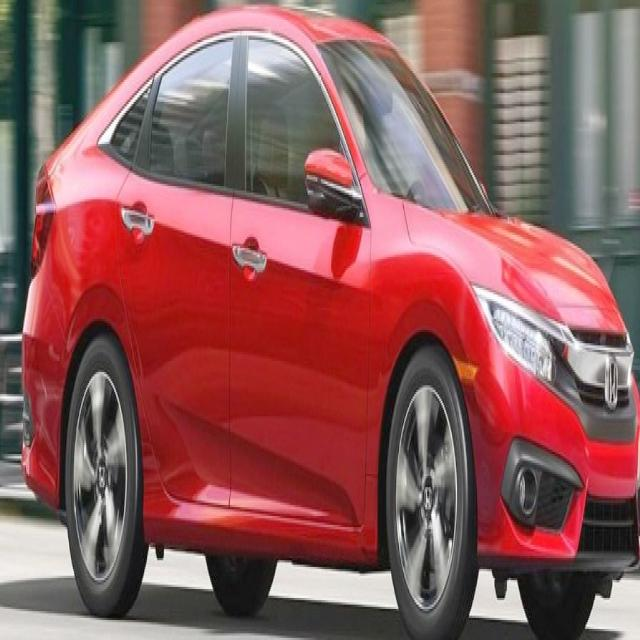red: (22, 46, 640, 595)
